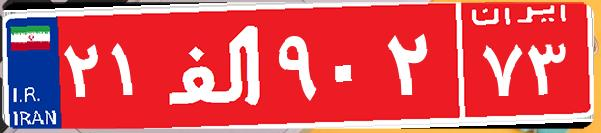0: (330, 28, 385, 110)
1: (110, 28, 158, 105)
2: (385, 28, 445, 110), (57, 26, 110, 107)
3: (525, 38, 570, 115)
7: (475, 38, 525, 113)
9: (273, 28, 330, 110)
الف: (158, 15, 273, 115)
